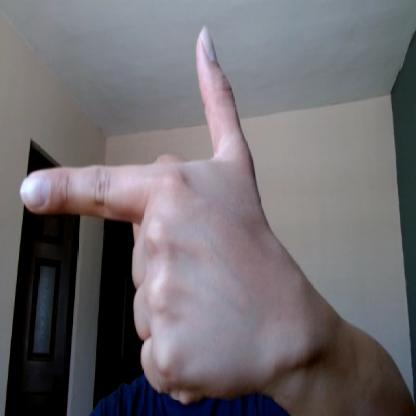G: (19, 28, 279, 397)
